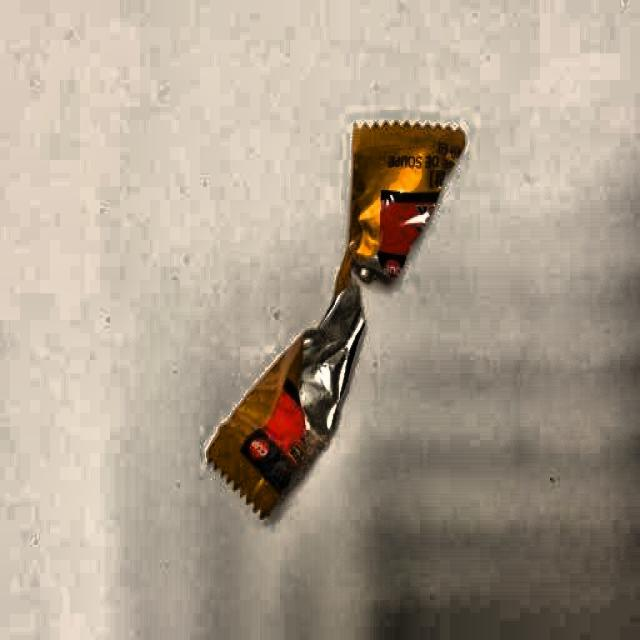trash: (206, 125, 474, 509)
